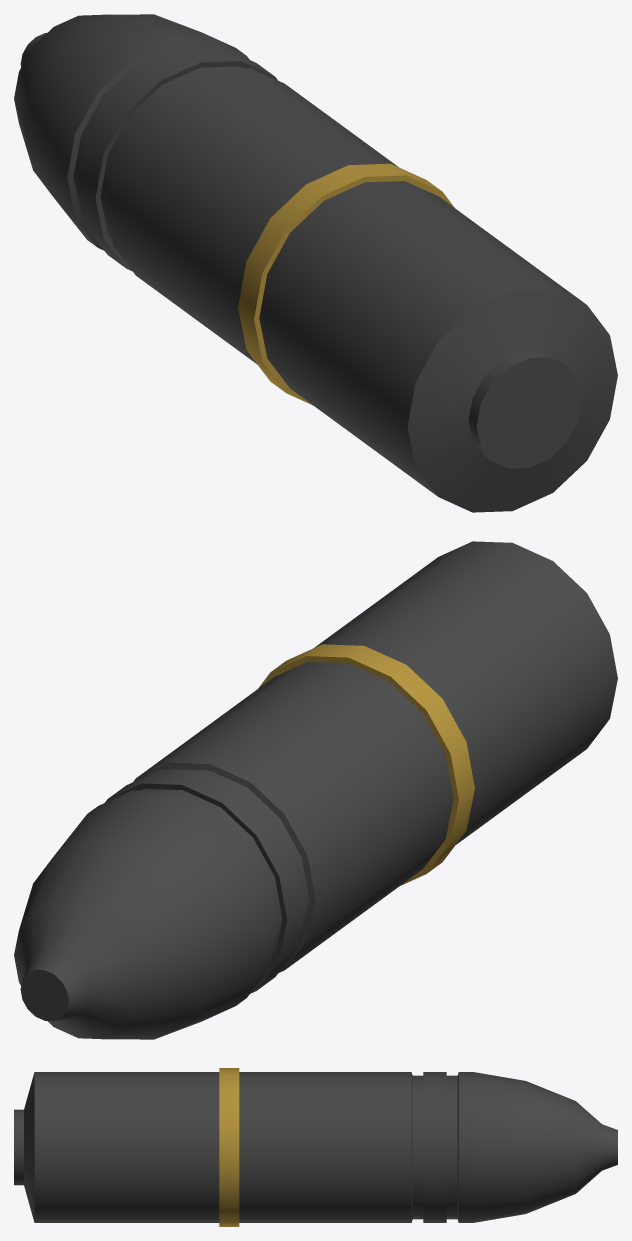
The model's file is heat_bullet_76.fbx.
3 views of the same model, one above another, from view 1: azimuth 30°, elevation 25°; view 2: azimuth 150°, elevation 25°; view 3: azimuth 270°, elevation 25° (orthographic). The views are drawn at different scales.
Visible parts, largest first — view 1: Case; view 2: Case; view 3: Case.
Part boxes in pixels (x1,y1,x2,y2): Case: (14,14,617,512); Case: (14,541,617,1039); Case: (14,1068,617,1226).
Size of the model in its own units: 79.8 by 79.8 by 303.
